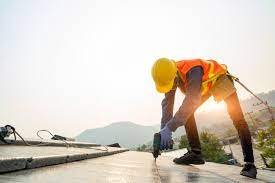Helmet: (145, 56, 175, 90)
Jacket: (177, 59, 226, 92)
Shoes: (172, 152, 206, 167)
gloves: (158, 128, 176, 150)
